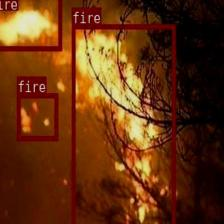fire: (71, 24, 175, 224), (0, 0, 61, 50), (16, 93, 58, 139)
